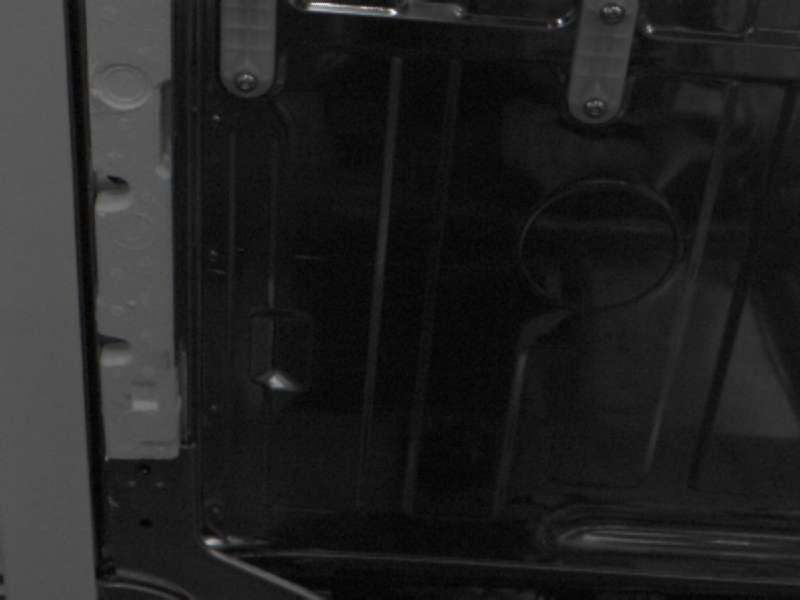screw: (600, 2, 626, 25), (234, 72, 259, 93), (584, 98, 608, 119)
